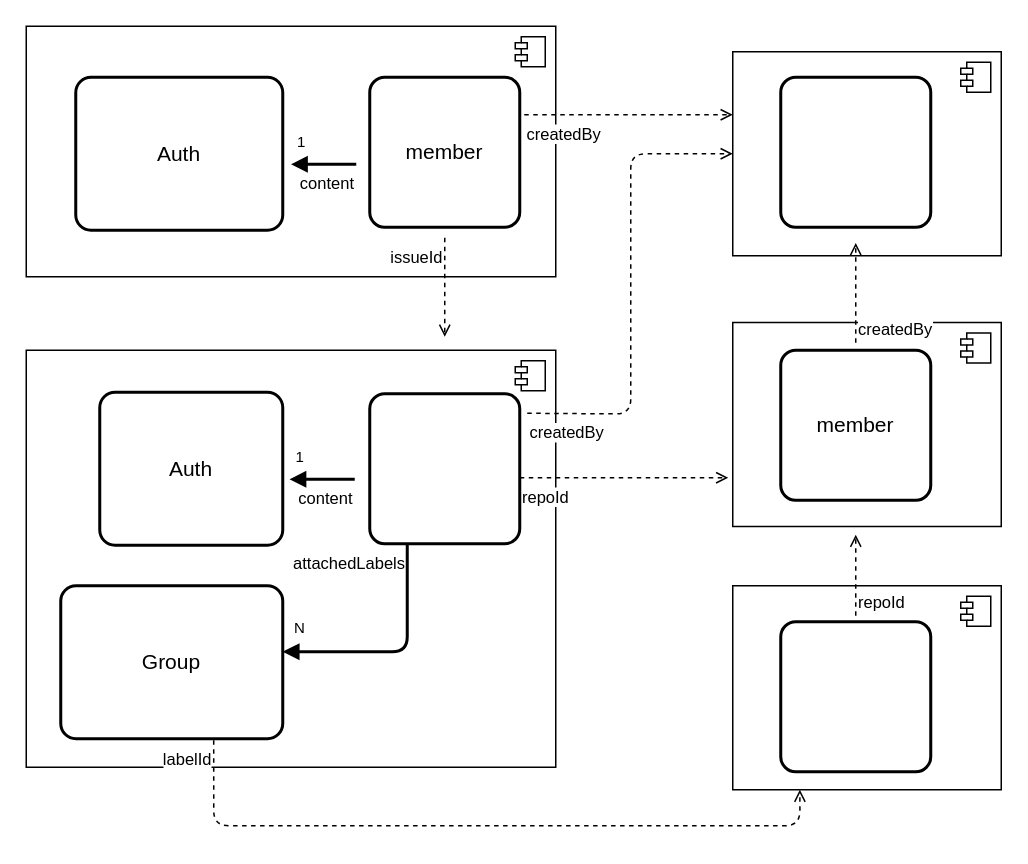
Image size: 1028x864. Some labels were removed from this diagram. Here are the shapes that lost their labels. From the top down, the centre of each, then its label:
At point 855,151: "Login".
At point 444,468: "ClientAuth".
At point 855,696: "client".
